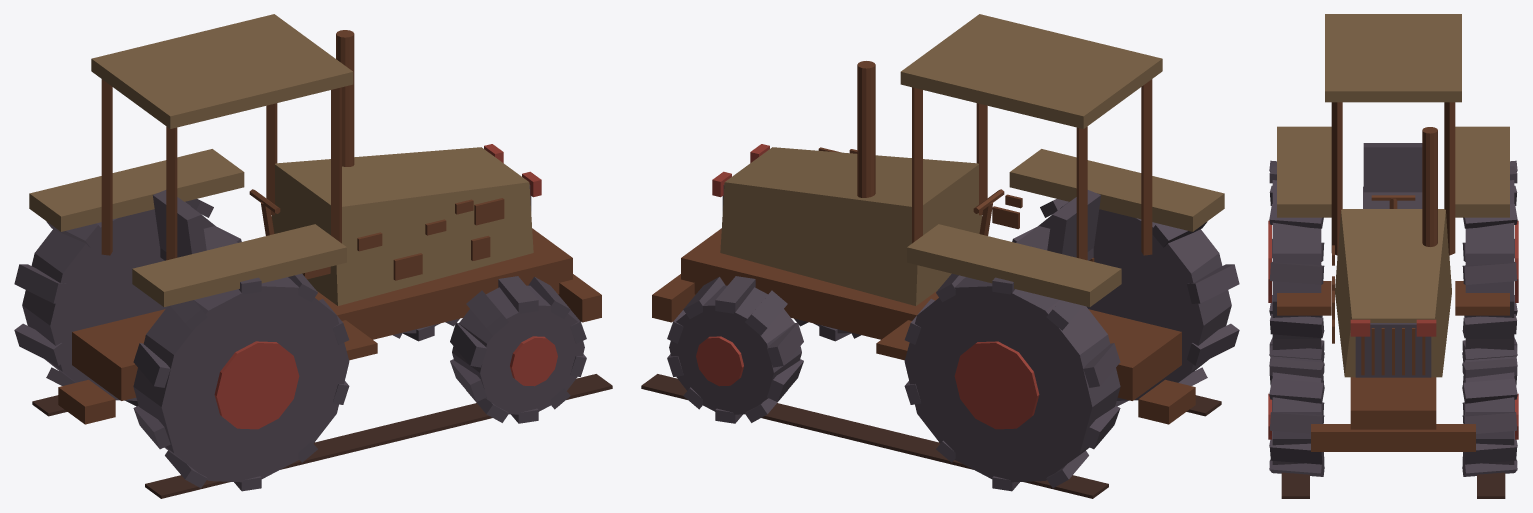
The model's file is prop.farm-tractor.glb.
3 renders of one model, left to right at view 1: azimuth 30°, elevation 25°; view 2: azimuth 150°, elevation 25°; view 3: azimuth 270°, elevation 25°, orthographic. The views are drawn at different scales.
Parts seen in each view (by area): view 1: body; view 2: body; view 3: body.
Part boxes in pixels (<box>): body: <box>14,14,612,498</box>; body: <box>641,14,1239,498</box>; body: <box>1268,14,1518,498</box>.
Bounding box in the file's own units: 3.96 × 2.84 × 2.05.
